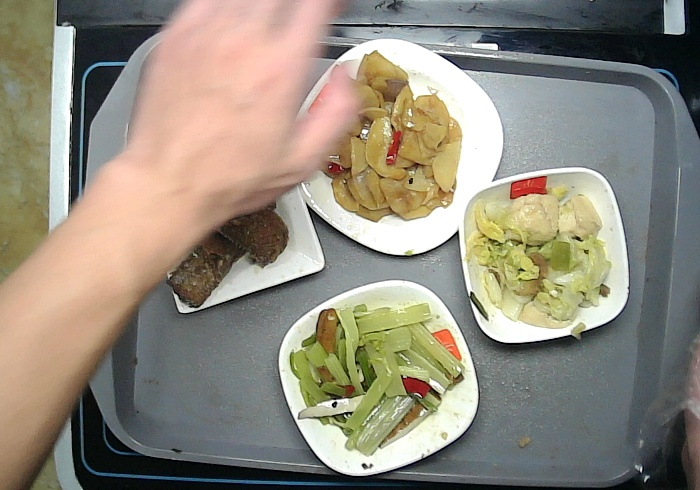SHKJ-Bai_Se_Cai_Die: (273, 278, 486, 477)
SHKJ-Bai_Se_Si_Fang_Cai_Die: (291, 38, 506, 258)
SHKJ-Bai_Se_Xiao_Fang_Die: (457, 167, 635, 349)
SHKJ-Si_Fang_Min: (163, 176, 328, 318)
